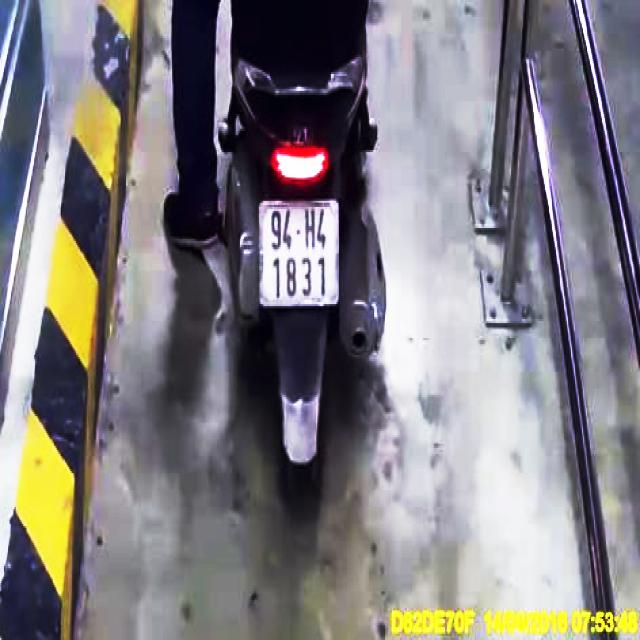license_plate: (262, 201, 340, 307)
